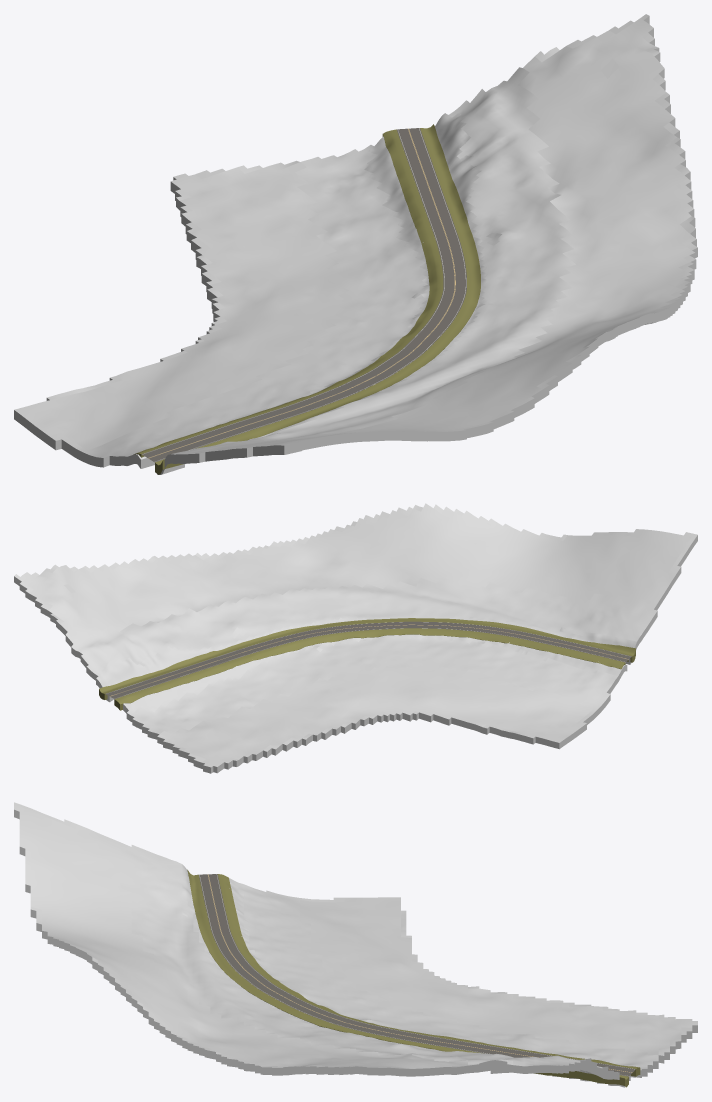
The model's file is conz_47.glb.
The picture shows the model from 3 angles, top to bottom: view 1: azimuth 30°, elevation 25°; view 2: azimuth 150°, elevation 25°; view 3: azimuth 270°, elevation 25°; orthographic projection. The views are drawn at different scales.
Parts seen in each view (by area): view 1: terrain47, road47, verge47R, verge47L, paint_white47, paint_yellow47; view 2: terrain47, verge47L, road47, verge47R, paint_yellow47; view 3: terrain47, road47, verge47R, verge47L, paint_white47.
Part boxes in pixels (x1,y1,x2,y2): terrain47: (14, 14, 697, 474); road47: (141, 128, 466, 462); verge47R: (155, 124, 480, 474); verge47L: (133, 129, 443, 457); paint_white47: (142, 128, 466, 461); paint_yellow47: (148, 128, 455, 458); terrain47: (14, 503, 697, 773); verge47L: (114, 628, 625, 710); road47: (105, 621, 631, 698); verge47R: (99, 618, 635, 699); paint_yellow47: (110, 624, 628, 696); terrain47: (14, 802, 697, 1087); road47: (198, 874, 635, 1076); verge47R: (187, 869, 628, 1087); verge47L: (217, 874, 640, 1076); paint_white47: (199, 874, 634, 1075).
Bounding box in the file's own units: 242 × 49.86 × 244.
